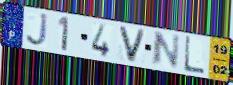1: (57, 16, 70, 54)
4: (90, 22, 114, 59)
J: (25, 13, 50, 49)
L: (183, 35, 206, 76)
N: (149, 31, 181, 70)
V: (117, 24, 148, 65)
